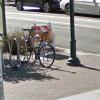Bicycle: (16, 20, 56, 70)
